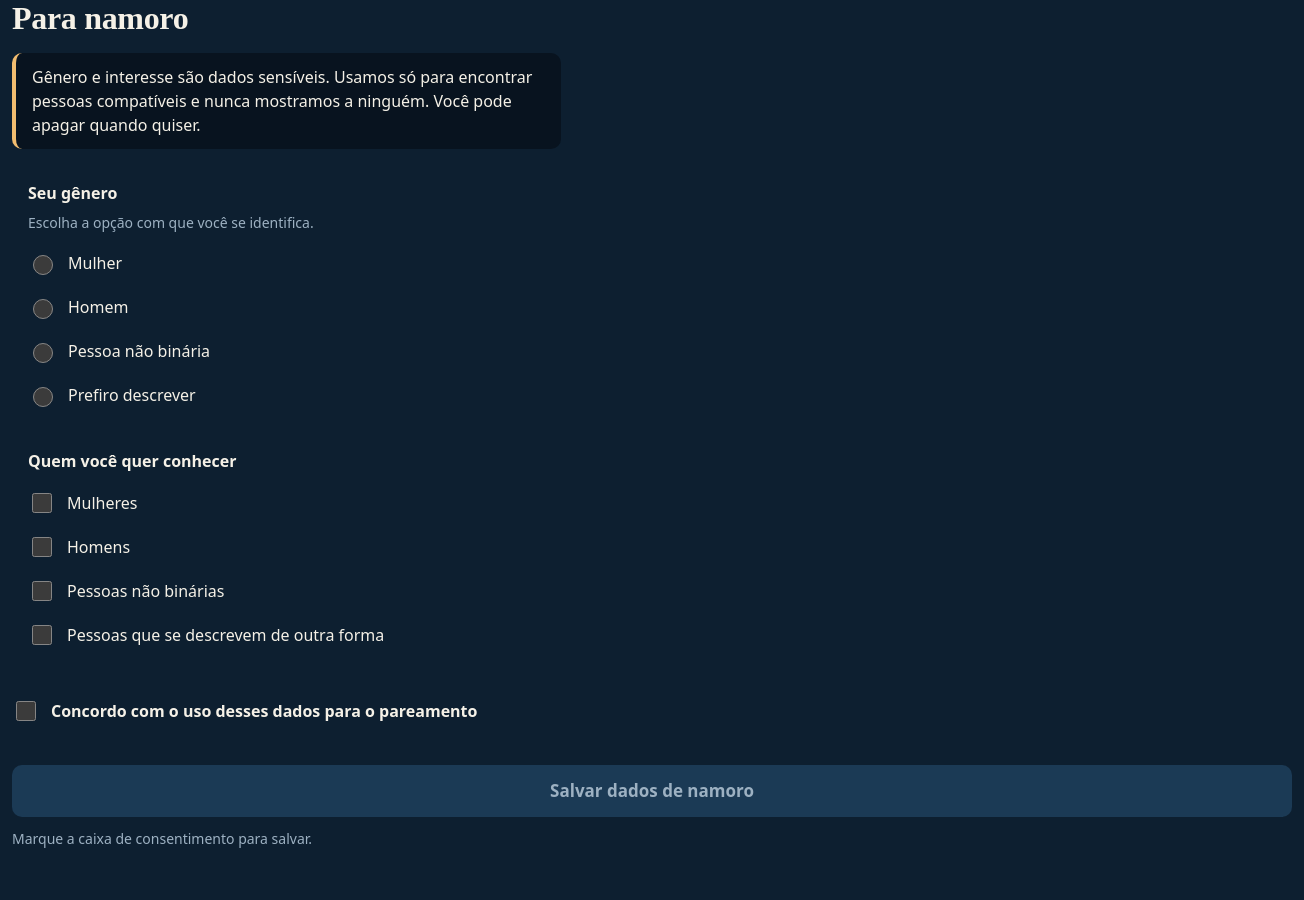
Test: Namoro › salvoMandaConsentimentoTrue
Click the radio button labelled "Mulher" at (43, 265), box [33,255,53,275]
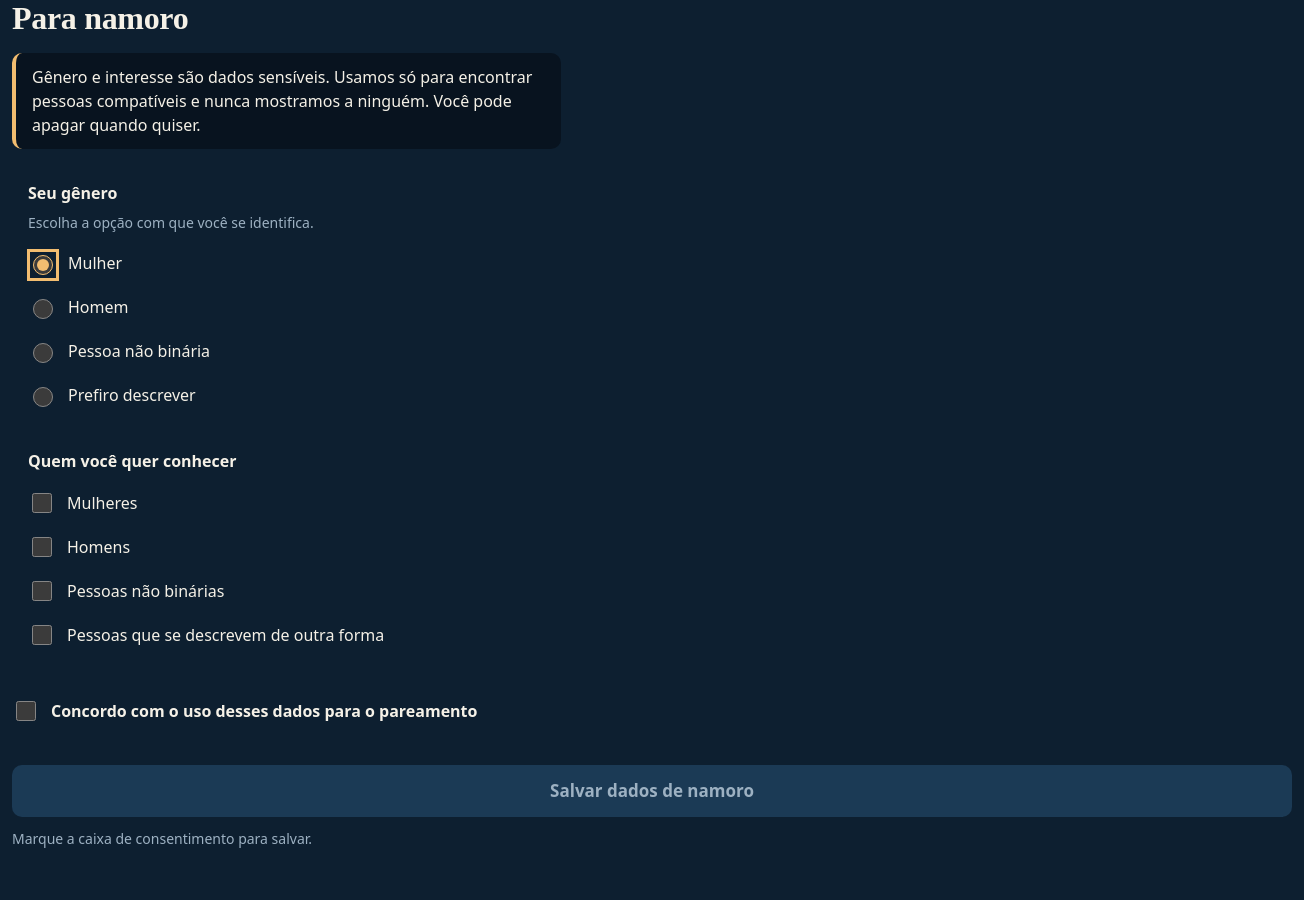
Click the checkbox labelled "Homens" at (42, 547), box [32,537,52,557]
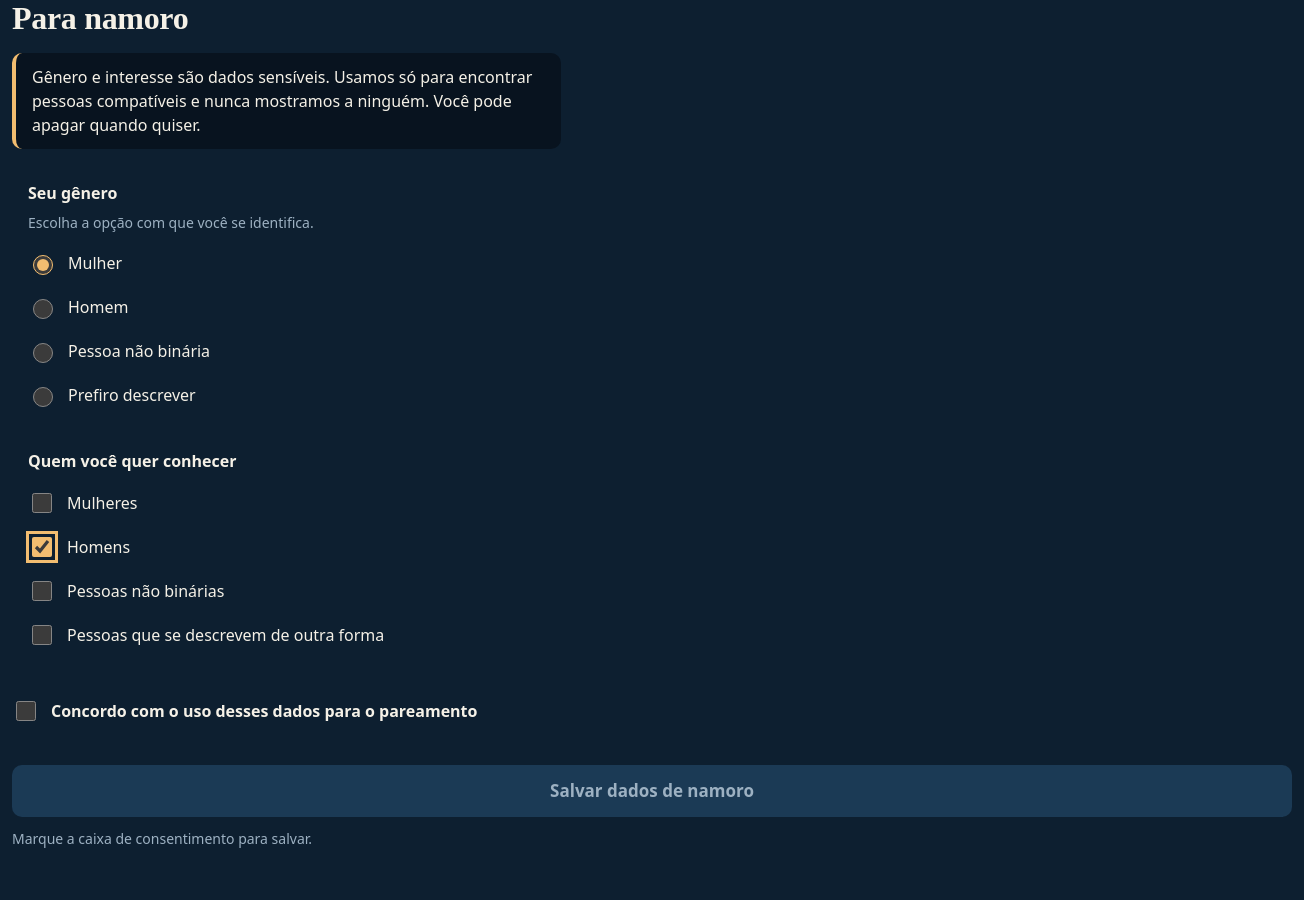
Click the checkbox labelled "Concordo com o uso desses dados para o pareamento" at (26, 711), box [16,701,36,721]
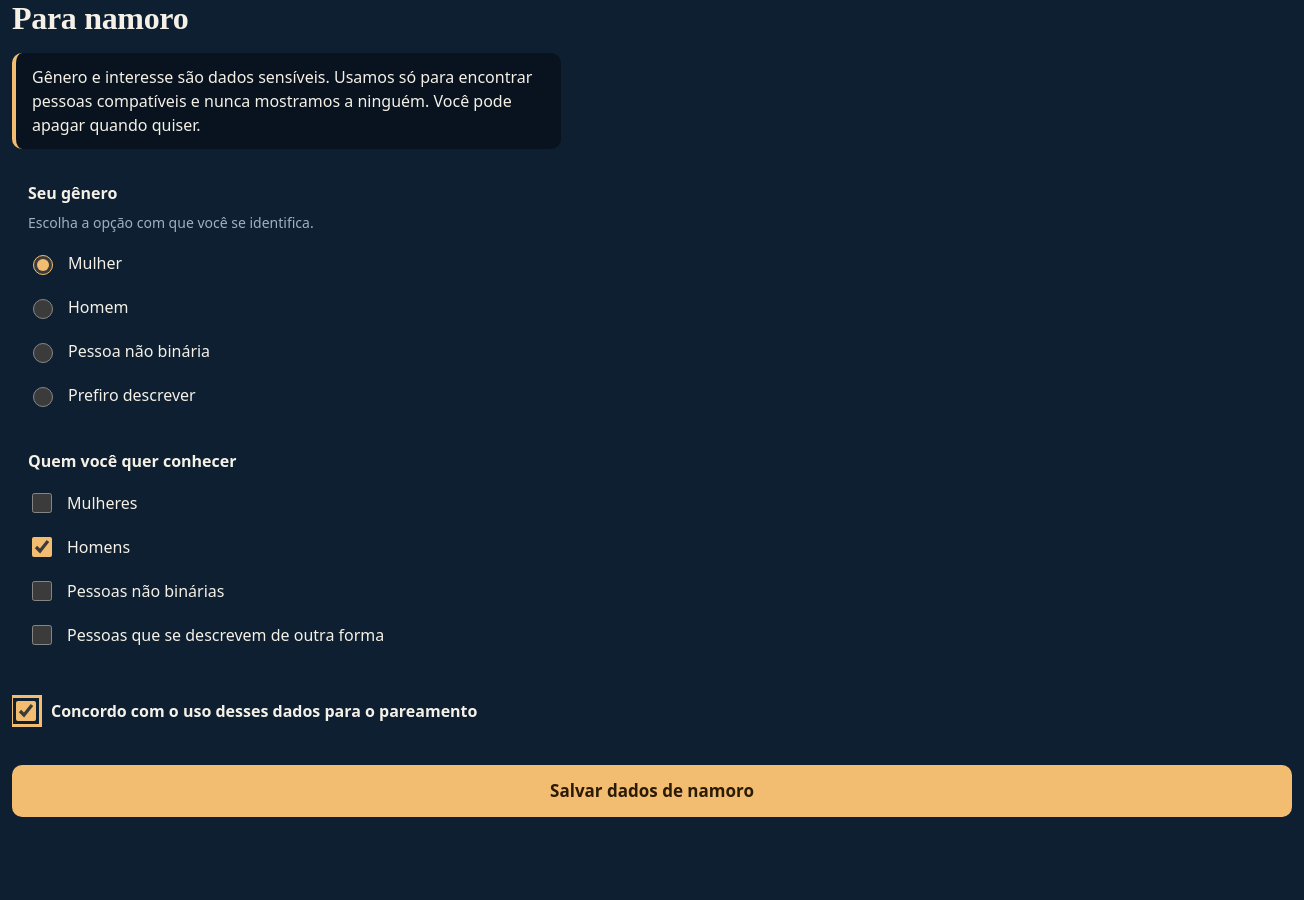
Click the button "Salvar dados de namoro" at (652, 791), box [12,765,1292,817]
(page scrolled)
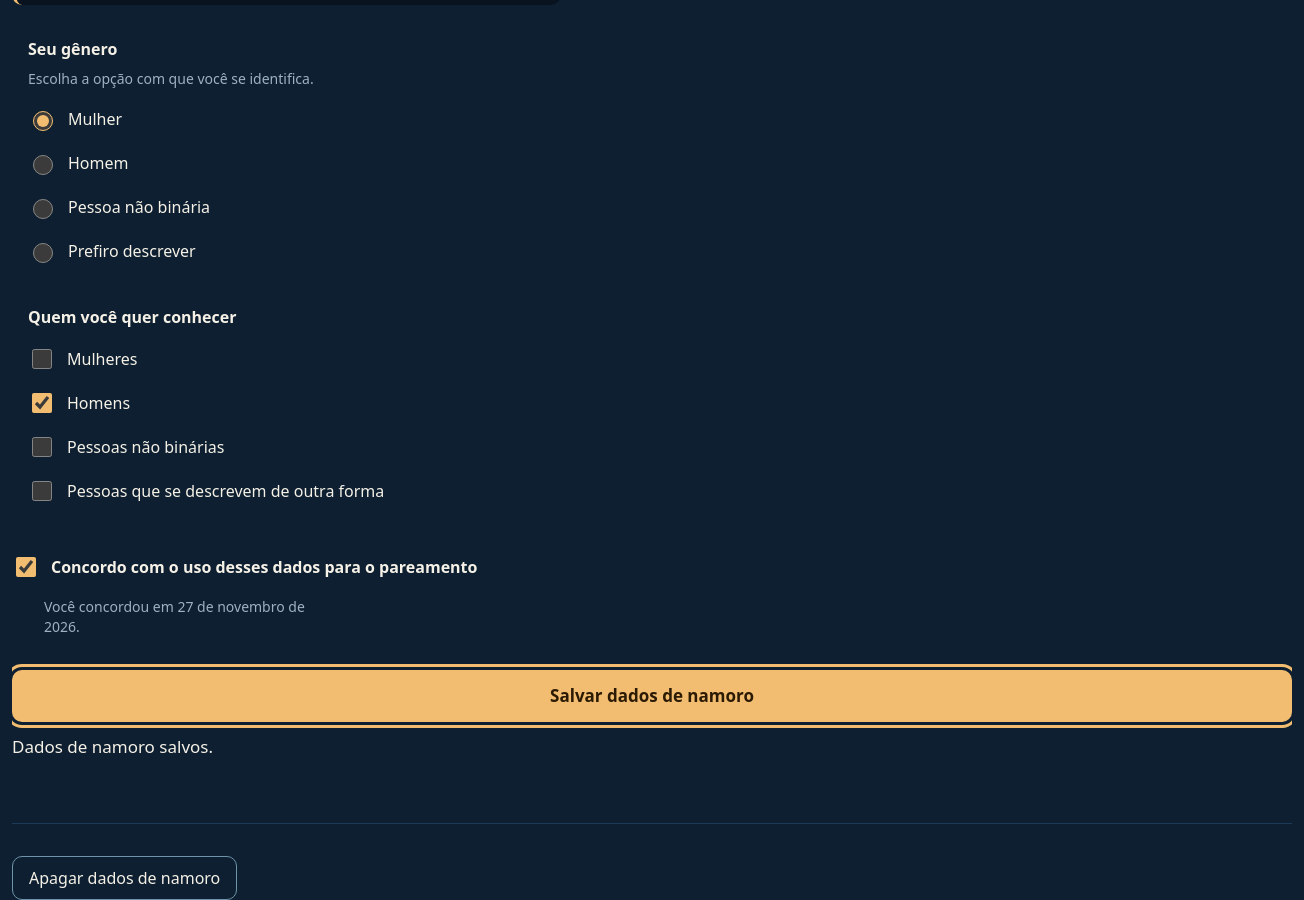
Result: the text "Dados de namoro salvos." is shown at [12,735,213,758]
